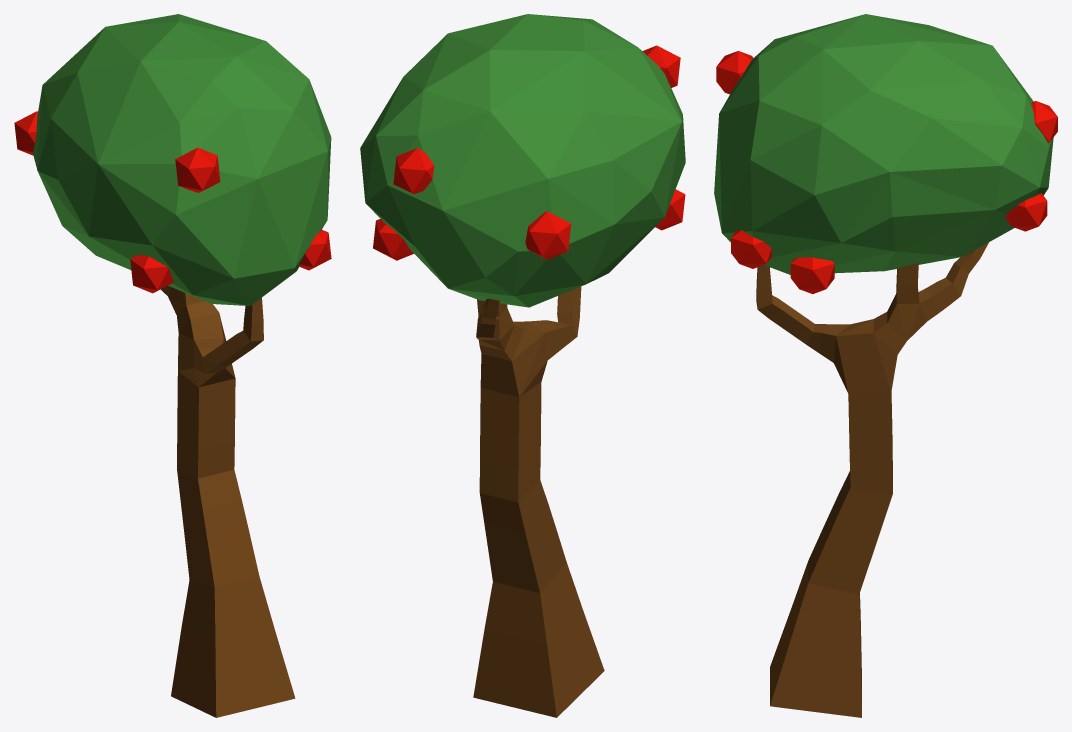
The model's file is arbolmanzanas.fbx.
3 views of the same model, side by side, from view 1: azimuth 30°, elevation 25°; view 2: azimuth 150°, elevation 25°; view 3: azimuth 270°, elevation 25° (orthographic). The views are drawn at different scales.
Parts seen in each view (by area): view 1: Arbol de manzanas; view 2: Arbol de manzanas; view 3: Arbol de manzanas.
Part boxes in pixels (left/top/right/bottom): Arbol de manzanas: left=14, top=14, right=331, bottom=717; Arbol de manzanas: left=360, top=14, right=685, bottom=717; Arbol de manzanas: left=714, top=14, right=1057, bottom=717.
Bounding box in the file's own units: 318 × 816 × 388.
